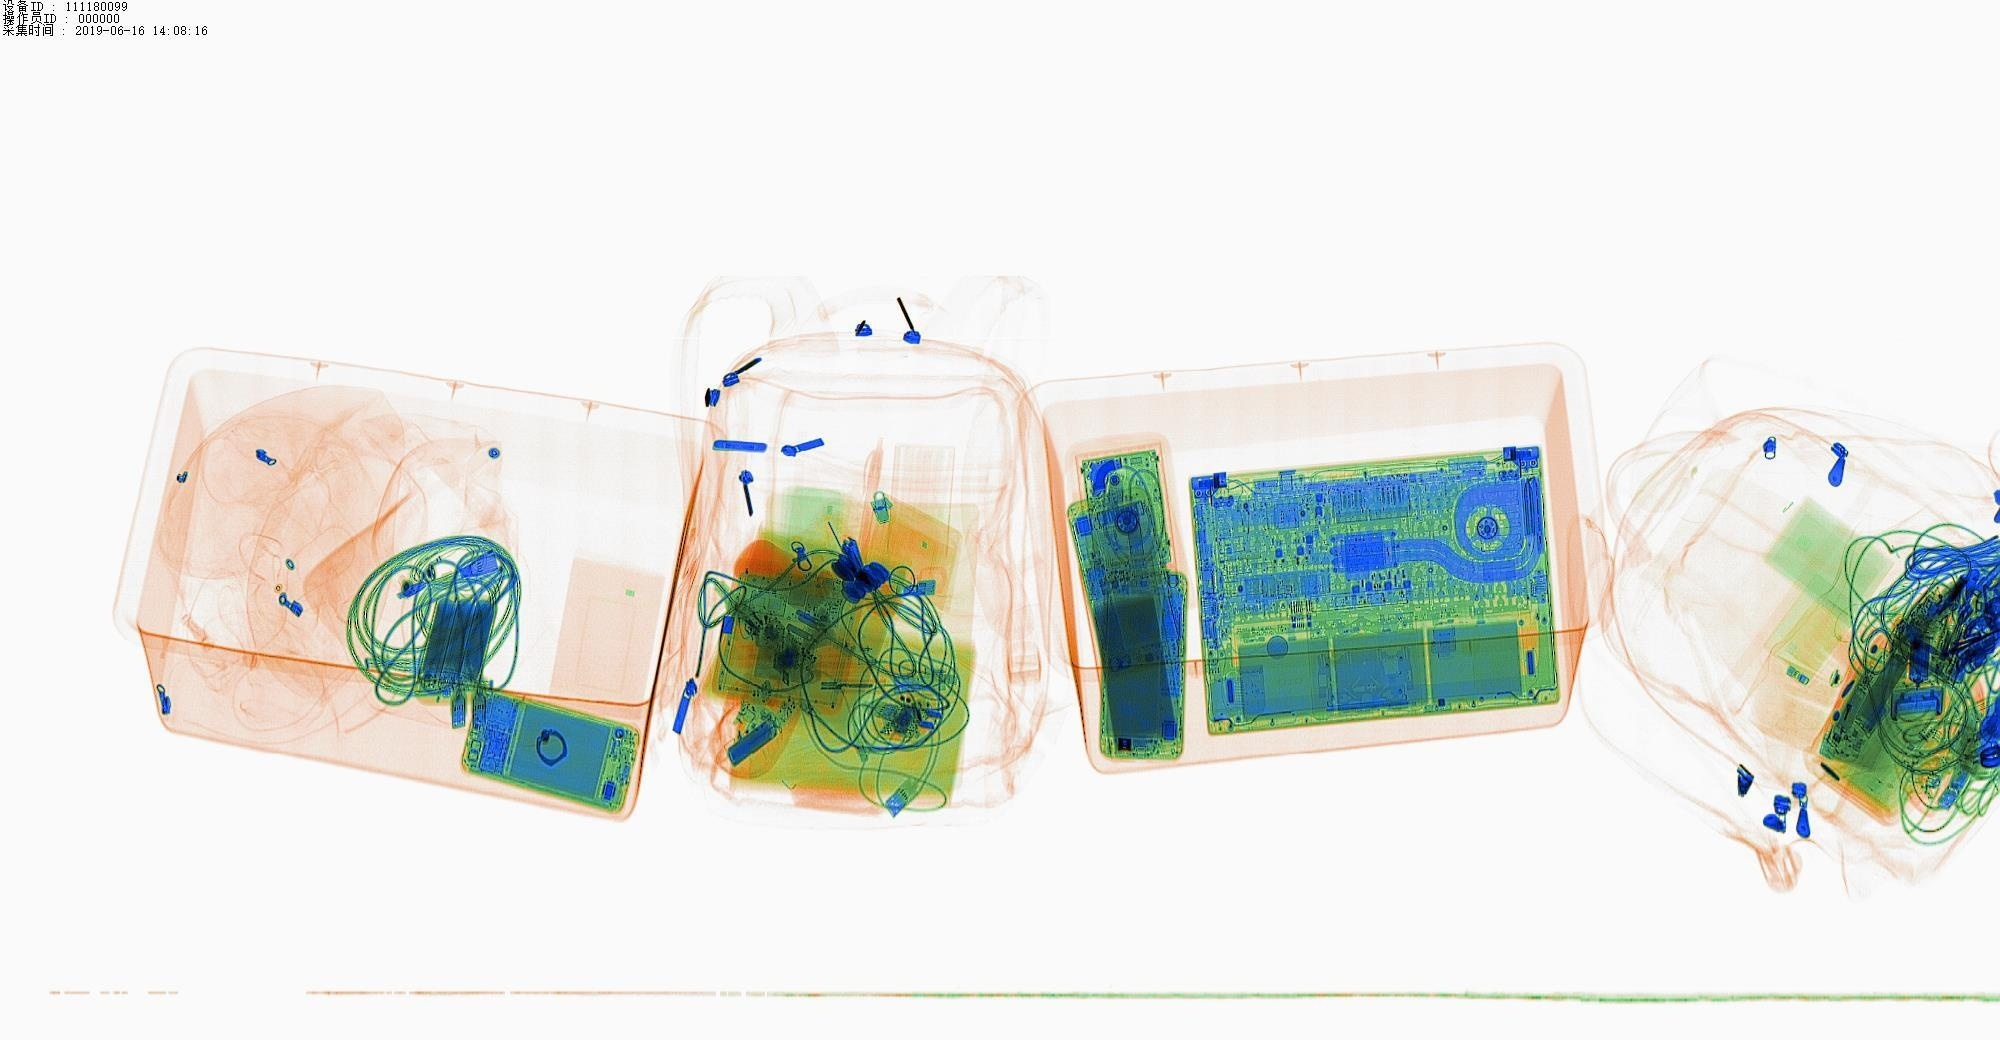NonmetallicFire: (1817, 656, 1876, 774)
